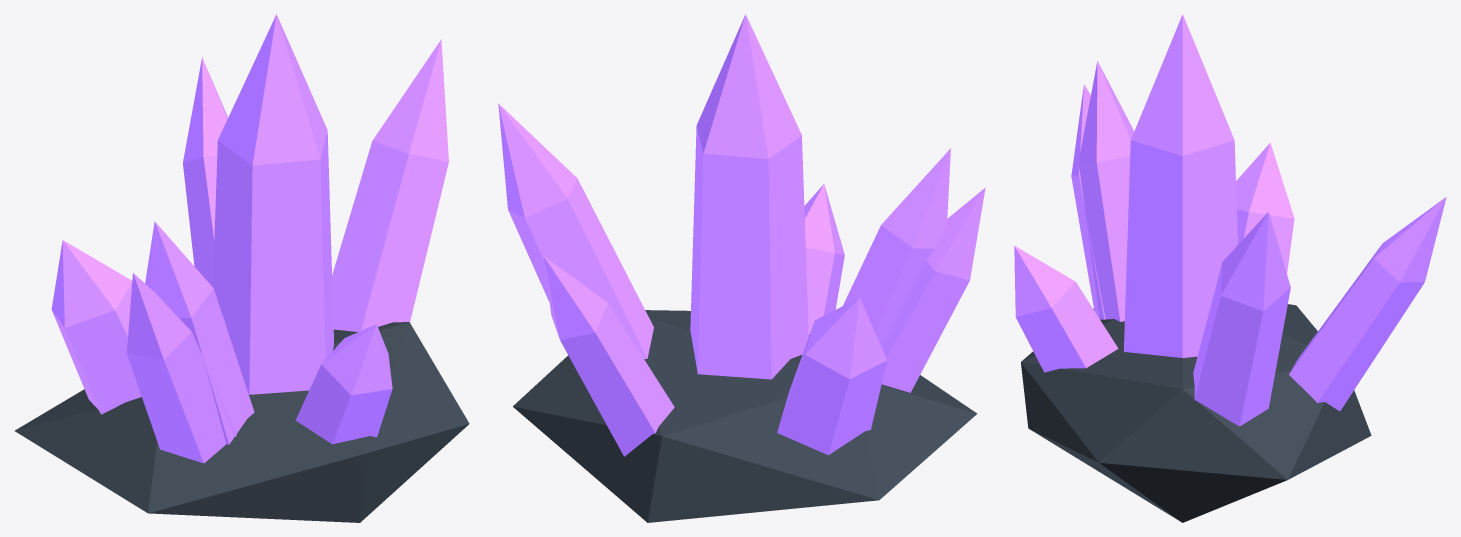
The model's file is crystal-cluster-2.glb.
The picture shows the model from 3 angles, left to right: view 1: azimuth 30°, elevation 25°; view 2: azimuth 150°, elevation 25°; view 3: azimuth 270°, elevation 25°; orthographic projection. The views are drawn at different scales.
Visible parts, largest first — view 1: crystal_cluster_2; view 2: crystal_cluster_2; view 3: crystal_cluster_2.
Boxes of the visible parts, box(x1,y1,x2,y2) form: crystal_cluster_2: box(14, 14, 469, 522); crystal_cluster_2: box(498, 14, 985, 522); crystal_cluster_2: box(1014, 14, 1446, 522).
Bounding box in the file's own units: 0.5276 × 0.5935 × 0.5181.
